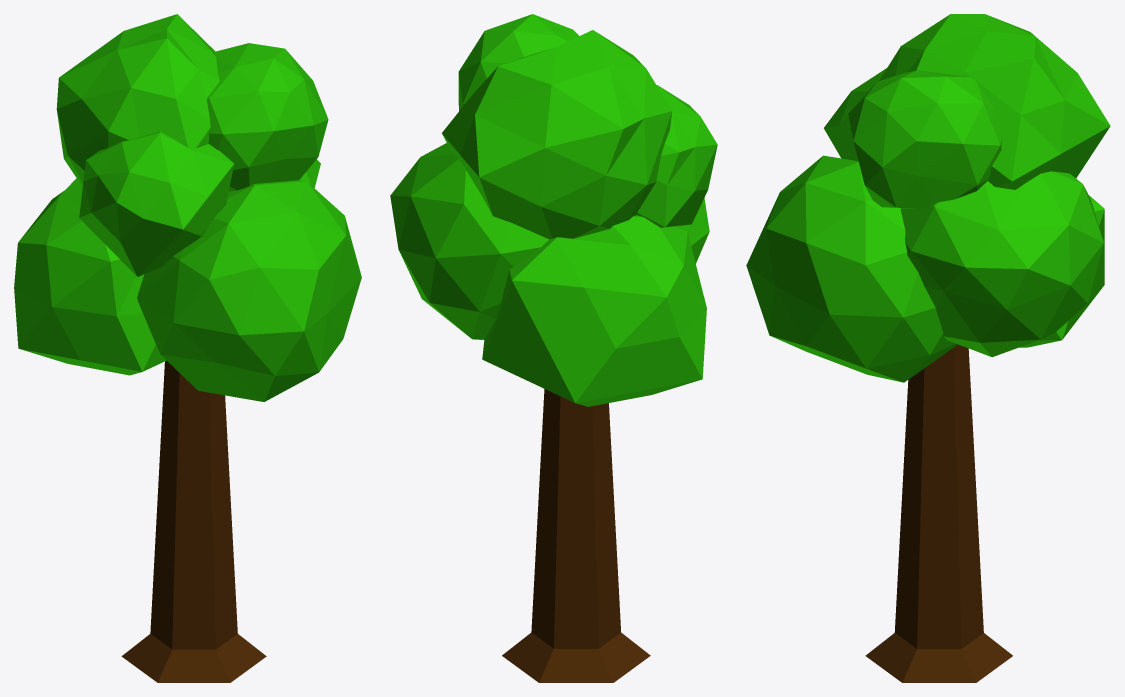
The model's file is Tree3.fbx.
The picture shows the model from 3 angles, left to right: view 1: azimuth 30°, elevation 25°; view 2: azimuth 150°, elevation 25°; view 3: azimuth 270°, elevation 25°; orthographic projection. The views are drawn at different scales.
Visible parts, largest first — view 1: Cylinder; view 2: Cylinder; view 3: Cylinder.
Part boxes in pixels (x1,y1,x2,y2): Cylinder: (14, 14, 361, 682); Cylinder: (390, 14, 717, 682); Cylinder: (746, 14, 1110, 682).
Size of the model in its own units: 197 by 403 by 211.
